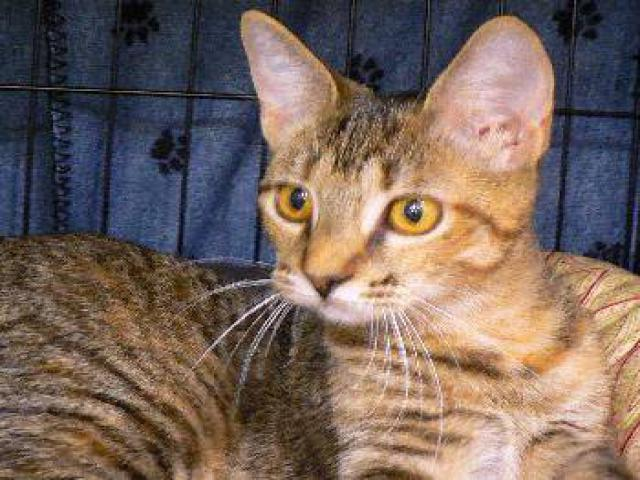cat: (13, 8, 639, 479)
